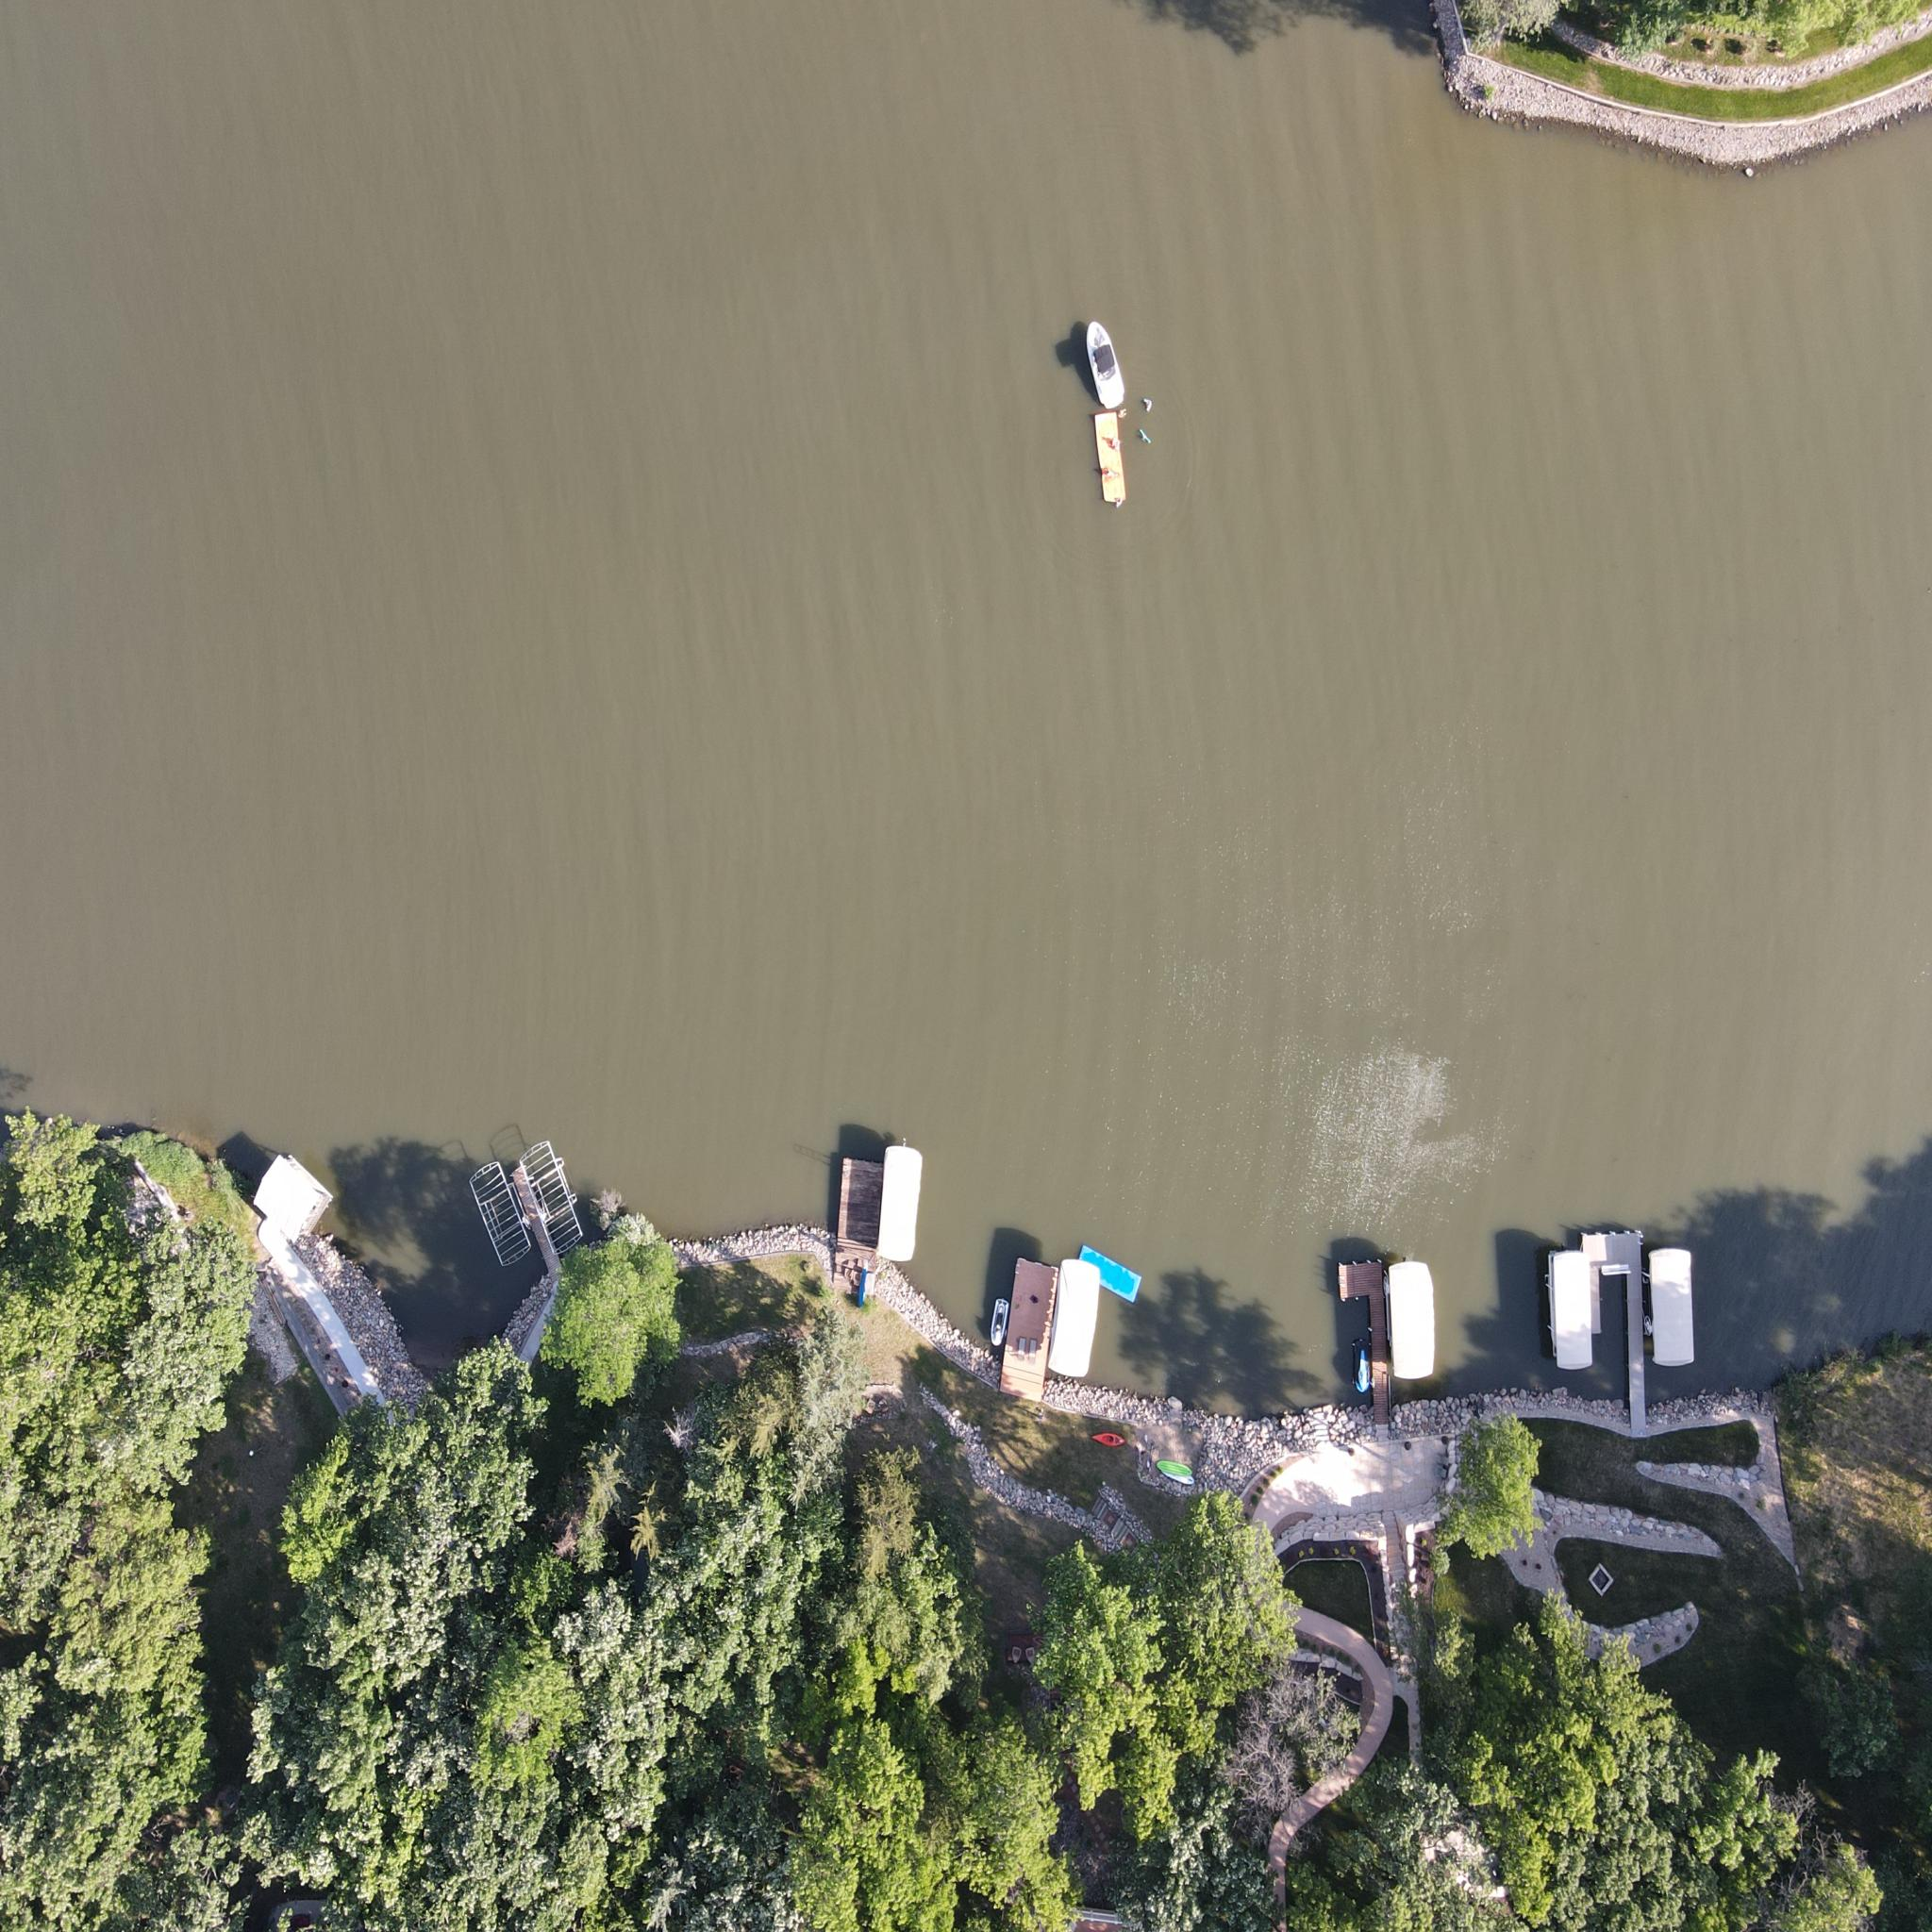boat: (1076, 308, 1136, 421)
dock: (1585, 1226, 1667, 1430), (249, 1152, 345, 1306), (994, 1247, 1070, 1414), (1330, 1251, 1403, 1410), (499, 1150, 573, 1297), (830, 1145, 888, 1299)
lift: (1382, 1258, 1453, 1396), (525, 1143, 596, 1269), (1545, 1235, 1599, 1391), (1063, 1247, 1113, 1399), (1644, 1235, 1695, 1362), (471, 1155, 525, 1269), (886, 1131, 925, 1284)
